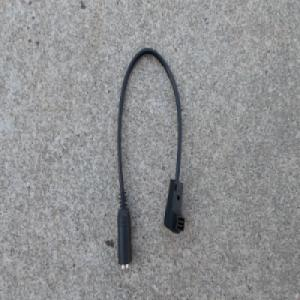Wire: (115, 45, 186, 271)
